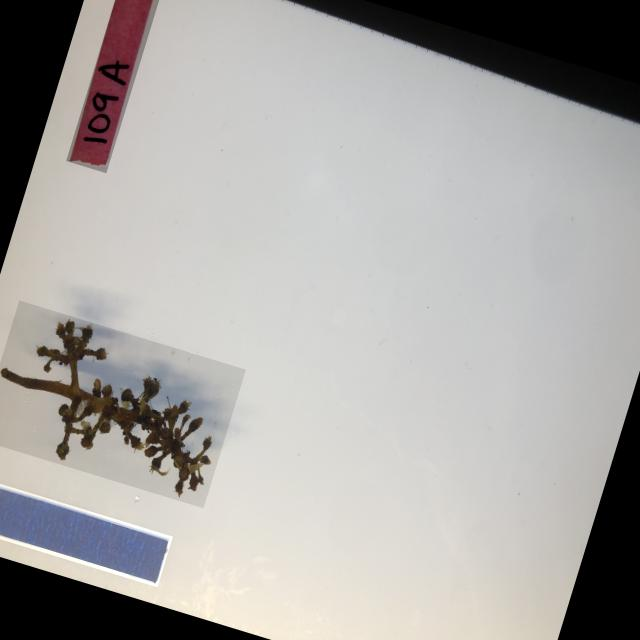index: (66, 0, 164, 172)
measure_label: (0, 467, 172, 586)
rachis_cluster: (0, 299, 245, 507)
